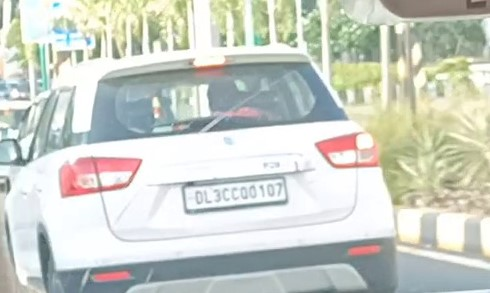DL3CCQ0107: (184, 178, 286, 210)
